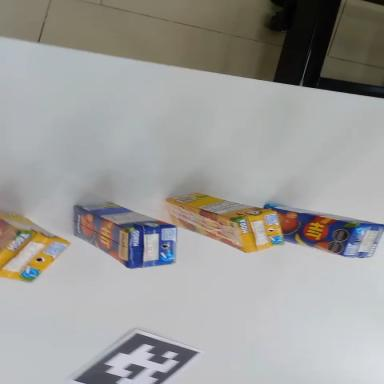HIT-MANGO: (61, 191, 184, 281), (258, 202, 384, 263)
HIT-MORA: (160, 186, 289, 260), (0, 210, 73, 288)
cara_F: (159, 192, 256, 253), (257, 205, 357, 257), (60, 206, 142, 268), (0, 217, 20, 251)
